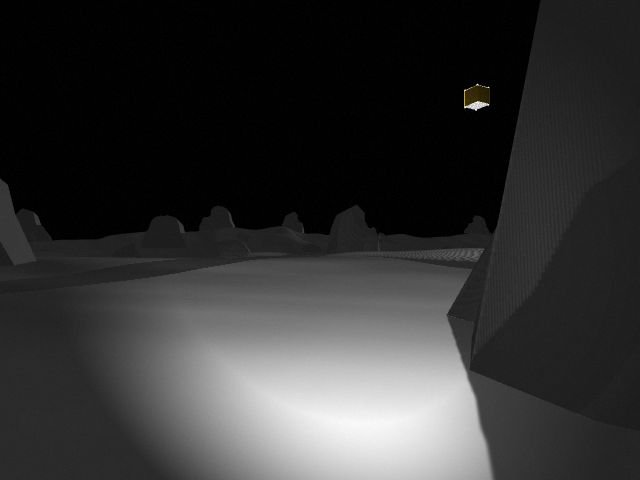cubesat: (456, 77, 496, 116)
